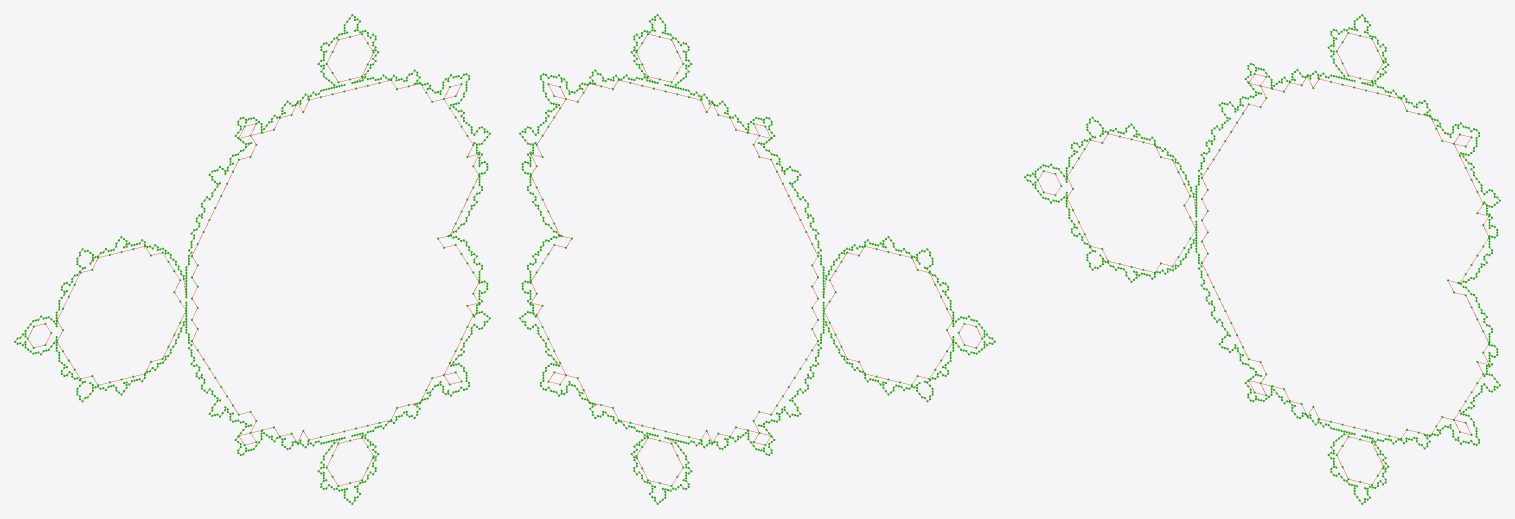
Rendered from TriangulateMe.glb.
The picture shows the model from 3 angles, left to right: view 1: azimuth 30°, elevation 25°; view 2: azimuth 150°, elevation 25°; view 3: azimuth 330°, elevation 25°; orthographic projection.
Size of the model in its own units: 1.84 by 1.81 by 0.00681.
